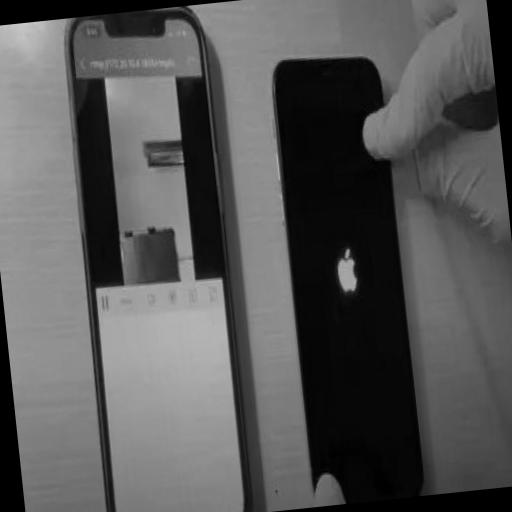phone: (71, 9, 251, 512), (265, 59, 421, 502)
